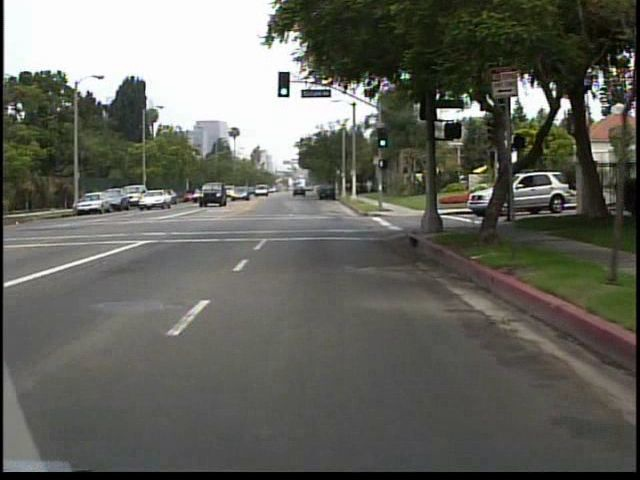person: (355, 177, 364, 200), (366, 176, 374, 196)
